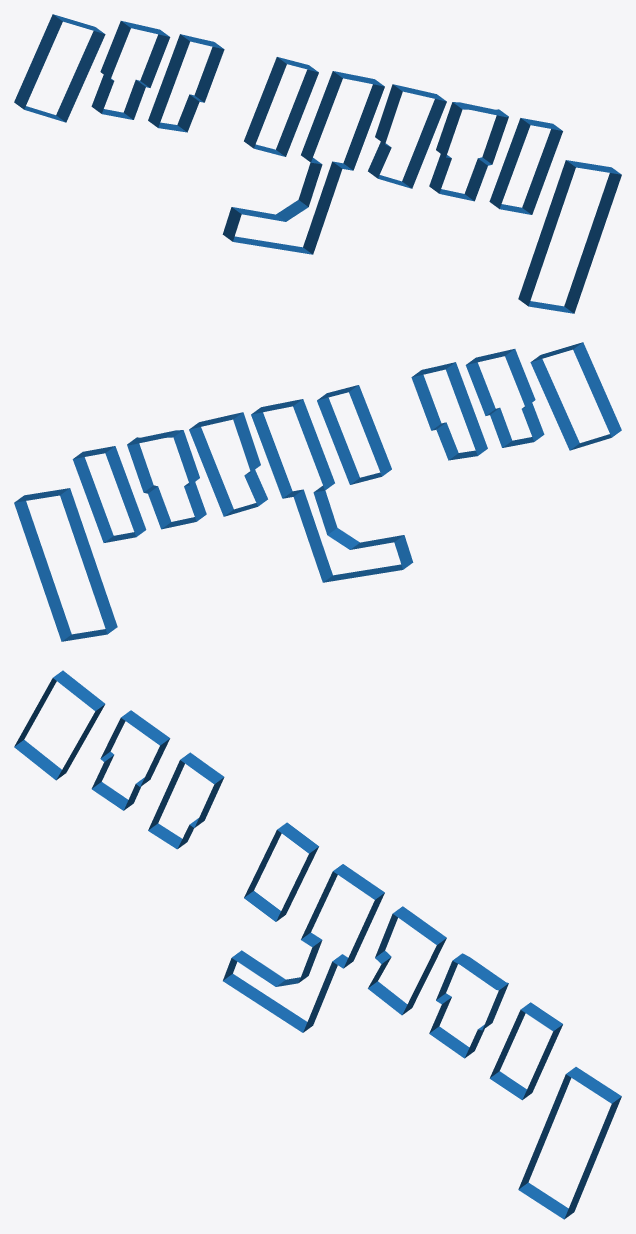
The model's file is Wall_Hini_4.0_Slope_0.0.obj.
The picture shows the model from 3 angles, top to bottom: view 1: azimuth 30°, elevation 25°; view 2: azimuth 150°, elevation 25°; view 3: azimuth 330°, elevation 25°; orthographic projection.
Parts seen in each view (by area): view 1: 2, 1, 6, 8, 9, 5, 4, 3, 7; view 2: 2, 1, 6, 8, 9, 5, 4, 3, 7; view 3: 2, 1, 8, 9, 6, 5, 4, 7, 3.
Part boxes in pixels (bbox=[...]): 2: bbox=[222, 71, 384, 254]; 1: bbox=[518, 160, 621, 313]; 6: bbox=[14, 14, 105, 122]; 8: bbox=[368, 84, 446, 188]; 9: bbox=[429, 102, 508, 201]; 5: bbox=[91, 21, 170, 119]; 4: bbox=[148, 34, 224, 132]; 3: bbox=[244, 57, 318, 156]; 7: bbox=[489, 118, 562, 214]; 2: bbox=[251, 399, 413, 582]; 1: bbox=[14, 488, 117, 641]; 6: bbox=[530, 342, 621, 450]; 8: bbox=[189, 412, 267, 516]; 9: bbox=[127, 430, 206, 529]; 5: bbox=[465, 349, 544, 447]; 4: bbox=[411, 362, 487, 460]; 3: bbox=[317, 385, 391, 484]; 7: bbox=[72, 446, 146, 542]; 2: bbox=[223, 864, 384, 1032]; 1: bbox=[518, 1067, 621, 1219]; 8: bbox=[368, 906, 446, 1015]; 9: bbox=[429, 953, 508, 1058]; 6: bbox=[14, 670, 105, 780]; 5: bbox=[91, 710, 170, 810]; 4: bbox=[148, 752, 224, 849]; 7: bbox=[489, 1002, 562, 1100]; 3: bbox=[244, 822, 318, 921].
Size of the model in its own units: 135 by 90 by 4.
